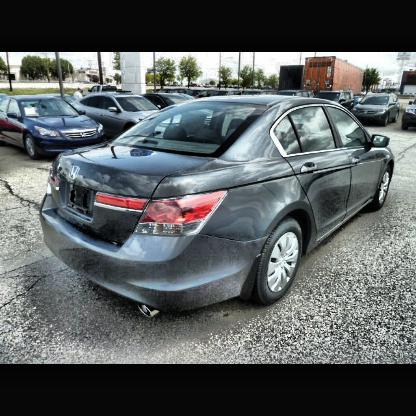Honda Accord Sedan 2012: (42, 96, 397, 319)
